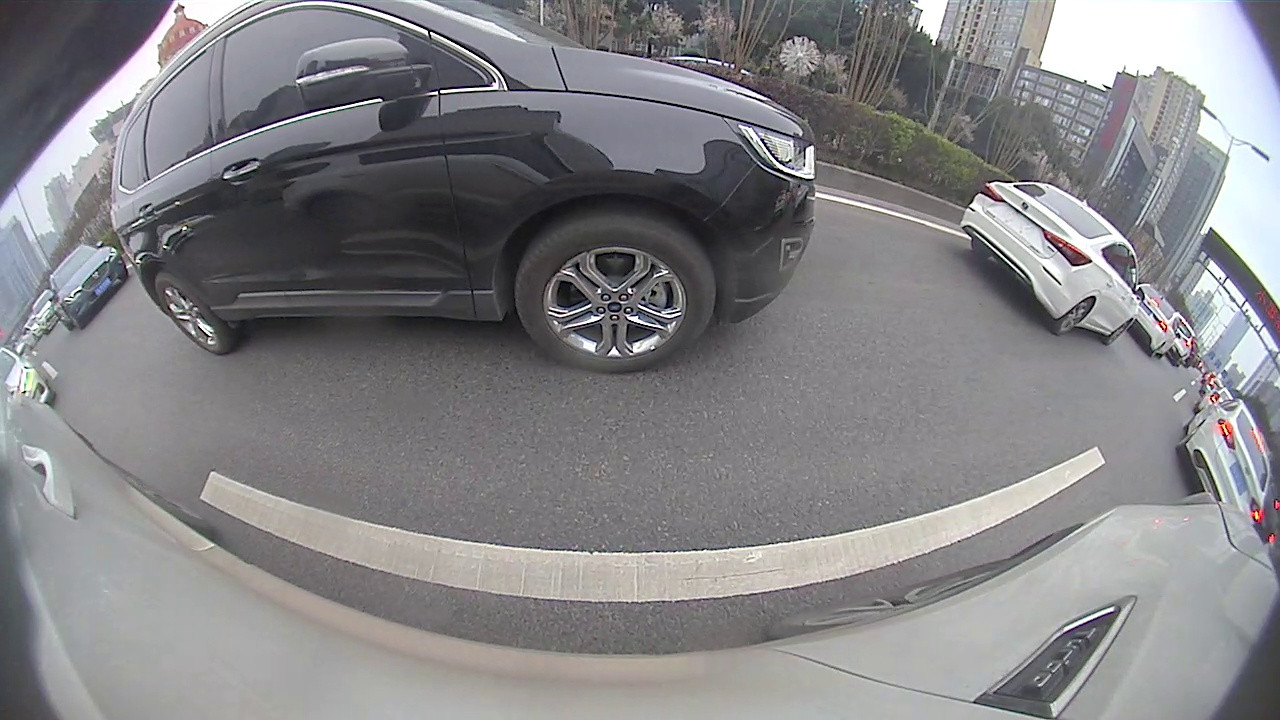car: (108, 4, 818, 375), (960, 180, 1147, 348), (1173, 390, 1274, 524), (44, 239, 128, 335)
front: (516, 213, 713, 375), (1108, 319, 1130, 345)
rear: (155, 275, 231, 355), (1054, 296, 1095, 337)
